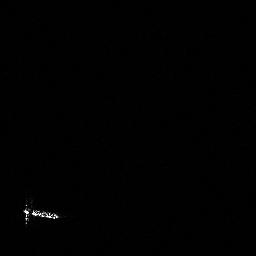ship: (18, 197, 62, 226)
